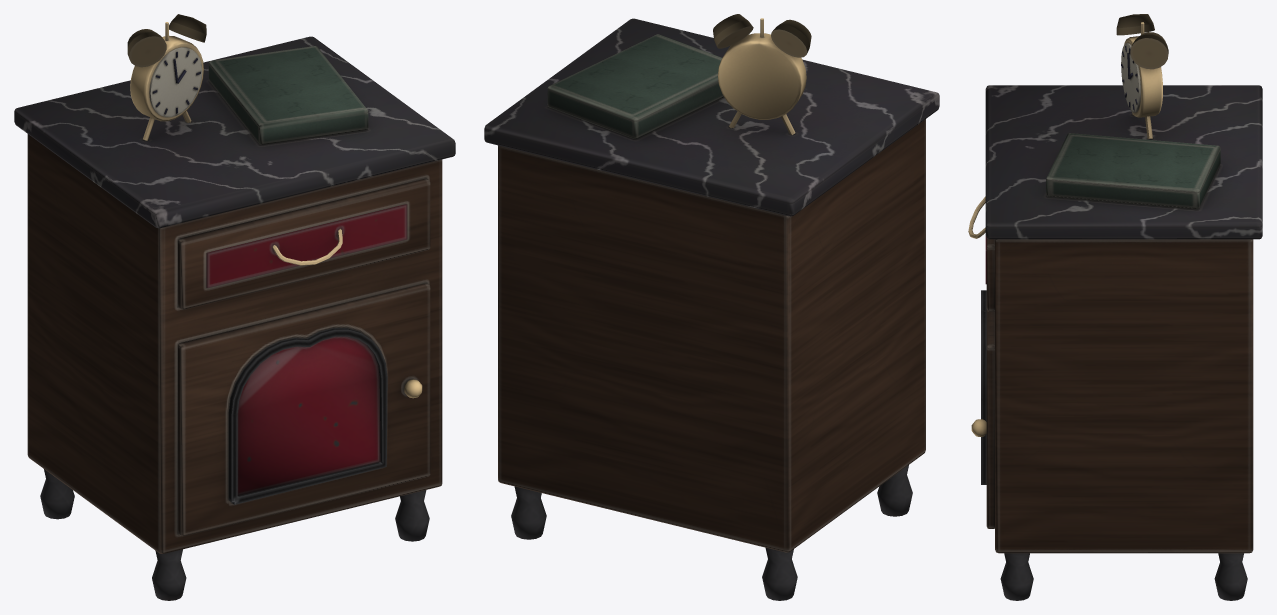
File: Nightstand.fbx
3 renders of one model, left to right at view 1: azimuth 30°, elevation 25°; view 2: azimuth 150°, elevation 25°; view 3: azimuth 270°, elevation 25°, orthographic. The views are drawn at different scales.
Parts seen in each view (by area): view 1: Nightstand; view 2: Nightstand; view 3: Nightstand.
Boxes of the visible parts, x1=… form: Nightstand: x1=14, y1=14, x2=455, y2=600; Nightstand: x1=484, y1=14, x2=939, y2=600; Nightstand: x1=968, y1=14, x2=1262, y2=600.
Bounding box in the file's own units: 180 × 292 × 159.
